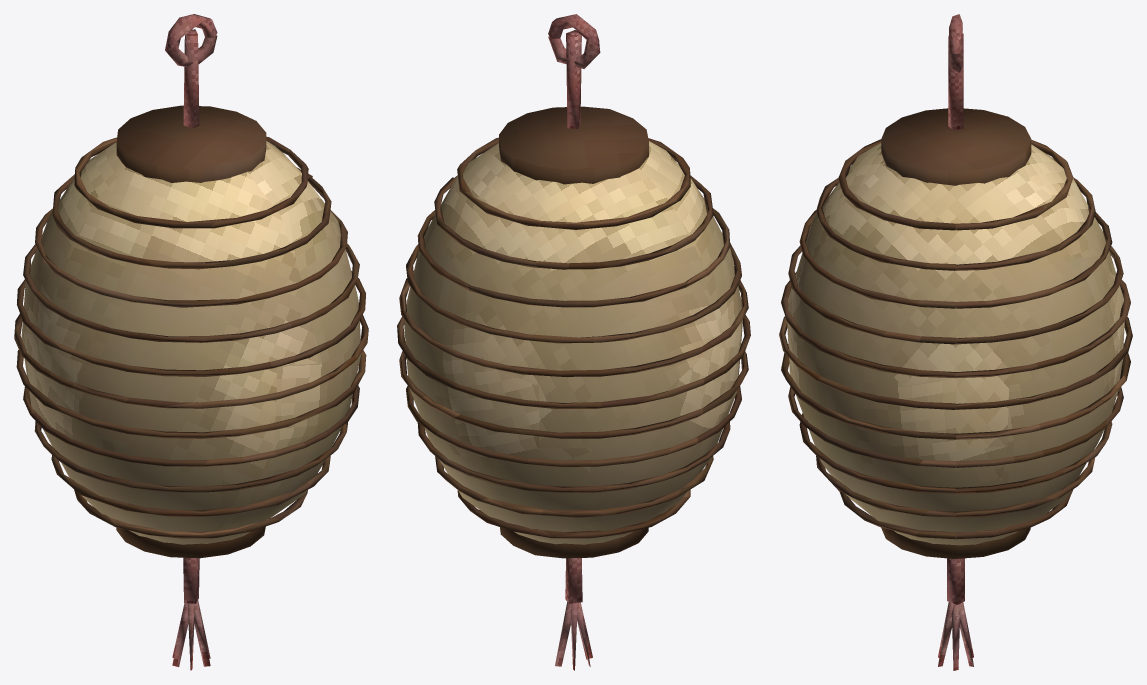
Rendered from lantern_paper.glb.
3 views of the same model, side by side, from view 1: azimuth 30°, elevation 25°; view 2: azimuth 150°, elevation 25°; view 3: azimuth 270°, elevation 25° (orthographic).
Parts seen in each view (by area): view 1: prop_lantern_paper_paper, prop_lantern_paper_wood, prop_lantern_paper_felt; view 2: prop_lantern_paper_paper, prop_lantern_paper_wood, prop_lantern_paper_felt; view 3: prop_lantern_paper_paper, prop_lantern_paper_wood, prop_lantern_paper_felt.
Boxes of the visible parts, x1,y1,x2,y2 form: prop_lantern_paper_paper: (21,141,361,544); prop_lantern_paper_wood: (14,105,368,558); prop_lantern_paper_felt: (165,14,217,670); prop_lantern_paper_paper: (404,141,742,544); prop_lantern_paper_wood: (397,106,750,558); prop_lantern_paper_felt: (548,14,600,670); prop_lantern_paper_paper: (787,143,1124,545); prop_lantern_paper_wood: (779,108,1132,558); prop_lantern_paper_felt: (938,14,973,670).
Size of the model in its own units: 0.1559 by 0.3142 by 0.1558.
3 materials, 3 textured.
